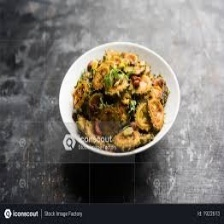sabzi: (68, 46, 174, 152)
